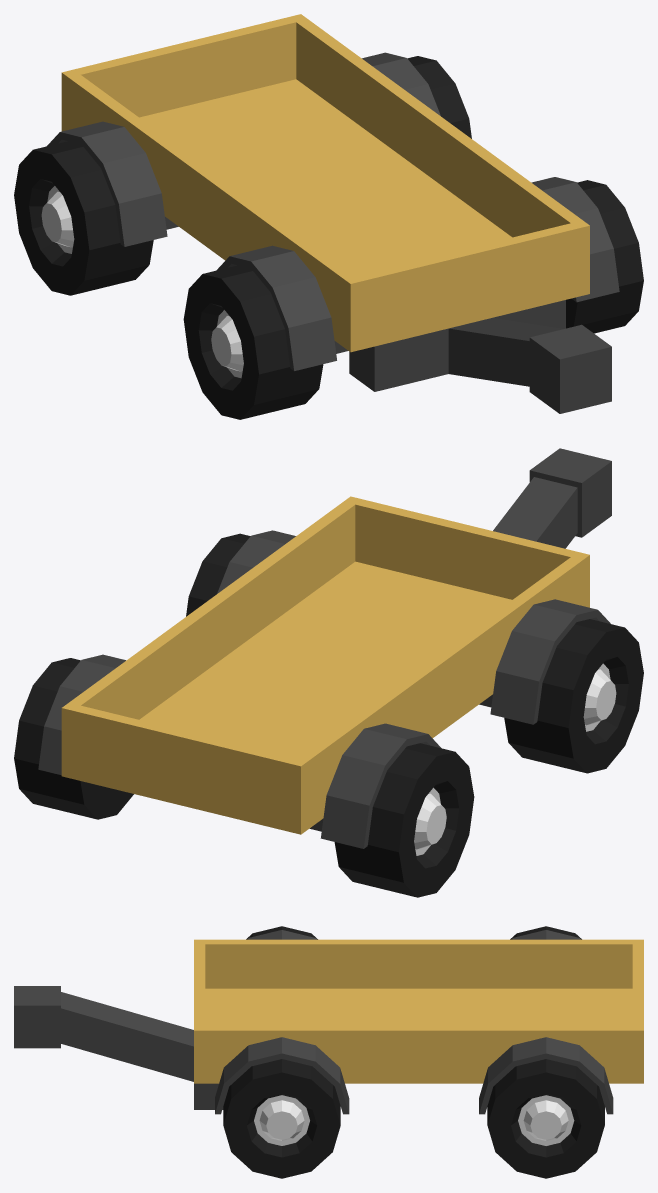
File: carroca_trator.glb
3 renders of one model, top to bottom at view 1: azimuth 30°, elevation 25°; view 2: azimuth 150°, elevation 25°; view 3: azimuth 270°, elevation 25°, orthographic. The views are drawn at different scales.
Parts seen in each view (by area): view 1: carroca_trator-convcolonly-rigid, carroca_trator-vehicle, wheel_front_right-wheel.001, wheel_back_right-wheel.004, gancho-convcolonly-rigid, pino_gancho, wheel_front_left-wheel.003, wheel_back_left-wheel.002; view 2: carroca_trator-convcolonly-rigid, carroca_trator-vehicle, wheel_back_right-wheel.004, wheel_front_right-wheel.001, wheel_back_left-wheel.002, gancho-convcolonly-rigid, pino_gancho, wheel_front_left-wheel.003; view 3: carroca_trator-convcolonly-rigid, wheel_front_left-wheel.003, wheel_back_left-wheel.002, carroca_trator-vehicle, gancho-convcolonly-rigid, pino_gancho.
Boxes of the visible parts, x1,y1,x2,y2 form: carroca_trator-convcolonly-rigid: (61, 14, 589, 353); carroca_trator-vehicle: (47, 52, 619, 371); wheel_front_right-wheel.001: (183, 265, 323, 419); wheel_back_right-wheel.004: (14, 141, 153, 295); gancho-convcolonly-rigid: (349, 300, 565, 391); pino_gancho: (529, 324, 611, 413); wheel_front_left-wheel.003: (566, 180, 643, 333); wheel_back_left-wheel.002: (407, 56, 471, 138); carroca_trator-convcolonly-rigid: (61, 496, 589, 834); carroca_trator-vehicle: (38, 530, 610, 848); wheel_back_right-wheel.004: (334, 743, 474, 897); wheel_front_right-wheel.001: (504, 619, 643, 773); wheel_back_left-wheel.002: (14, 658, 133, 819); gancho-convcolonly-rigid: (493, 477, 577, 548); pino_gancho: (529, 448, 611, 537); wheel_front_left-wheel.003: (186, 533, 250, 616); carroca_trator-convcolonly-rigid: (194, 939, 643, 1083); wheel_front_left-wheel.003: (223, 1059, 340, 1178); wheel_back_left-wheel.002: (487, 1059, 604, 1178); carroca_trator-vehicle: (215, 930, 613, 1114); gancho-convcolonly-rigid: (61, 992, 223, 1109); pino_gancho: (14, 986, 60, 1048).
Bounding box in the file's own units: 3.54 × 1.36 × 6.44.
